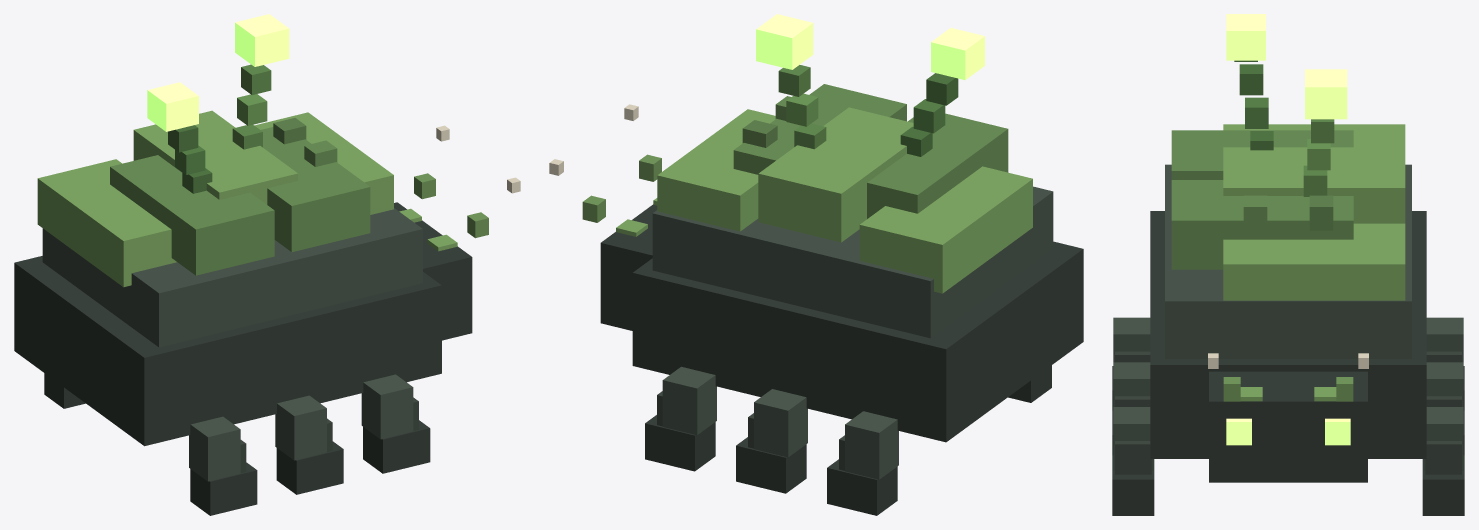
File: mill-moss-bug.glb
3 renders of one model, left to right at view 1: azimuth 30°, elevation 25°; view 2: azimuth 150°, elevation 25°; view 3: azimuth 270°, elevation 25°, orthographic. The views are drawn at different scales.
Visible parts, largest first — view 1: Carapace, MossBack, Legs, Spores, FernStalk, Head, Antennae, Scales; view 2: Carapace, MossBack, Legs, FernStalk, Spores, Head, Antennae, Scales; view 3: Carapace, MossBack, Legs, Head, Spores, FernStalk, Antennae, Scales, Eyes.
Boxes of the visible parts, x1=… form: Carapace: x1=14, y1=208, x2=441, y2=446; MossBack: x1=37, y1=110, x2=393, y2=287; Legs: x1=44, y1=373, x2=430, y2=515; Spores: x1=147, y1=14, x2=289, y2=131; FernStalk: x1=168, y1=64, x2=271, y2=193; Head: x1=394, y1=202, x2=472, y2=340; Antennae: x1=399, y1=125, x2=520, y2=251; Scales: x1=273, y1=118, x2=337, y2=166; Carapace: x1=632, y1=186, x2=1083, y2=442; MossBack: x1=657, y1=84, x2=1032, y2=293; Legs: x1=645, y1=365, x2=1051, y2=515; FernStalk: x1=778, y1=65, x2=958, y2=156; Spores: x1=756, y1=14, x2=984, y2=79; Head: x1=600, y1=204, x2=657, y2=330; Antennae: x1=549, y1=104, x2=661, y2=236; Scales: x1=742, y1=96, x2=790, y2=147; Carapace: x1=1150, y1=164, x2=1426, y2=458; MossBack: x1=1171, y1=124, x2=1405, y2=300; Legs: x1=1112, y1=317, x2=1464, y2=515; Head: x1=1209, y1=371, x2=1367, y2=482; Spores: x1=1226, y1=14, x2=1347, y2=119; FernStalk: x1=1234, y1=60, x2=1334, y2=196; Antennae: x1=1208, y1=353, x2=1368, y2=401; Scales: x1=1243, y1=195, x2=1333, y2=230; Eyes: x1=1226, y1=418, x2=1350, y2=445.
Size of the model in its own units: 4.2 by 3.78 by 3.
